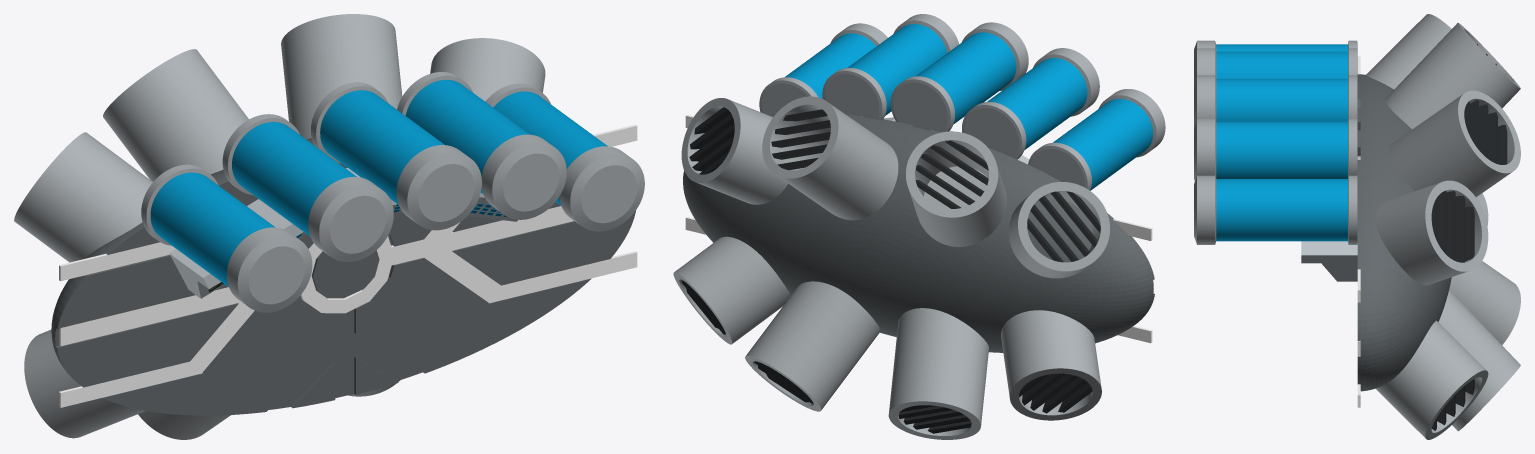
The model's file is tinker.obj.
3 views of the same model, side by side, from view 1: azimuth 30°, elevation 25°; view 2: azimuth 150°, elevation 25°; view 3: azimuth 270°, elevation 25° (orthographic). The views are drawn at different scales.
Visible parts, largest first — view 1: group_0_10988977, group_0_6383466, group_0_40919, group_0_16448250, group_0_12568524; view 2: group_0_10988977, group_0_6383466, group_0_40919, group_0_2829873, group_0_16448250; view 3: group_0_10988977, group_0_40919, group_0_6383466, group_0_2829873, group_0_12568524, group_0_16448250.
Boxes of the visible parts, left/top/right/bottom form: group_0_10988977: left=14, top=14, right=644, bottom=439; group_0_6383466: left=51, top=138, right=635, bottom=415; group_0_40919: left=150, top=80, right=607, bottom=286; group_0_16448250: left=59, top=124, right=637, bottom=407; group_0_12568524: left=169, top=168, right=518, bottom=298; group_0_10988977: left=673, top=14, right=1165, bottom=439; group_0_6383466: left=683, top=114, right=1154, bottom=352; group_0_40919: left=785, top=24, right=1153, bottom=190; group_0_2829873: left=681, top=107, right=1100, bottom=433; group_0_16448250: left=685, top=114, right=1152, bottom=343; group_0_10988977: left=1194, top=14, right=1520, bottom=439; group_0_40919: left=1216, top=44, right=1347, bottom=241; group_0_6383466: left=1357, top=74, right=1451, bottom=391; group_0_2829873: left=1431, top=44, right=1507, bottom=430; group_0_12568524: left=1301, top=156, right=1360, bottom=281; group_0_16448250: left=1357, top=56, right=1360, bottom=407.
Size of the model in its own units: 204 by 130 by 120.
